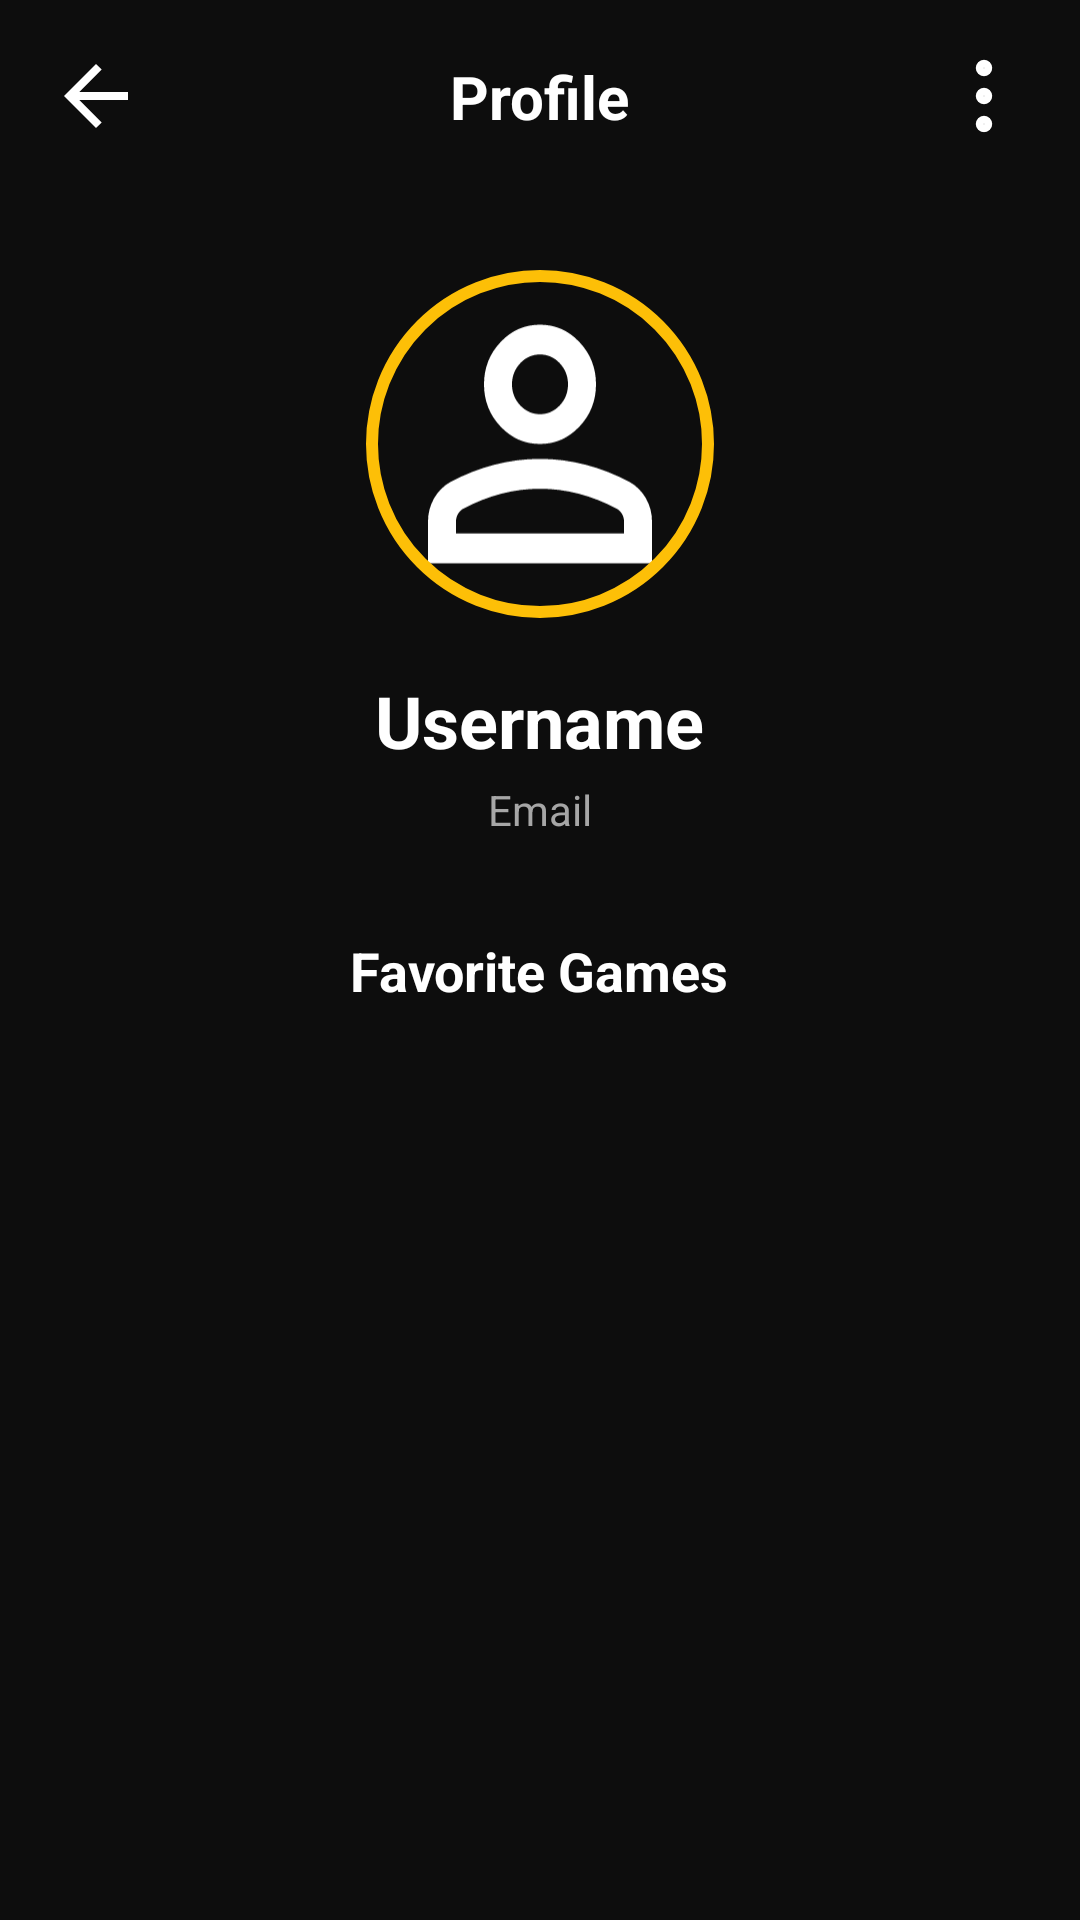

Icons on this 1080x1920 Android screen, each with its box as (x1, y1, x2, y2):
Back: (64, 64, 128, 128)
